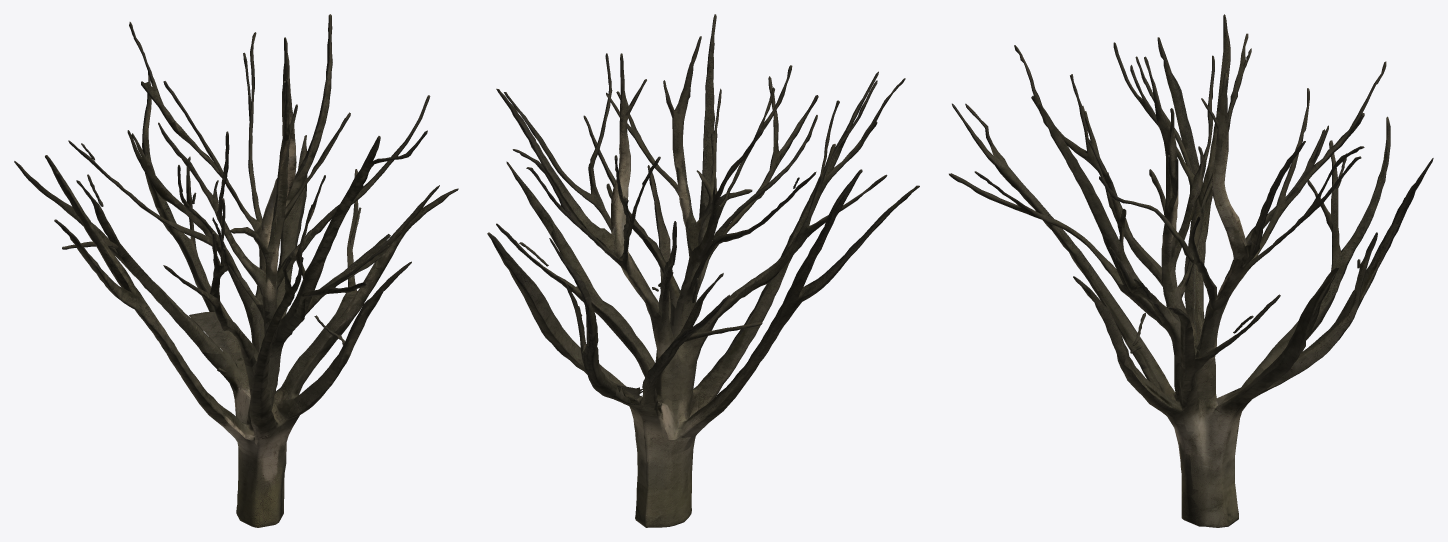
The model's file is bare_tree.glb.
3 renders of one model, left to right at view 1: azimuth 30°, elevation 25°; view 2: azimuth 150°, elevation 25°; view 3: azimuth 270°, elevation 25°, orthographic.
Bounding box in the file's own units: 1.76 × 1.91 × 1.82.
Materials: 1 (1 with a texture image).
